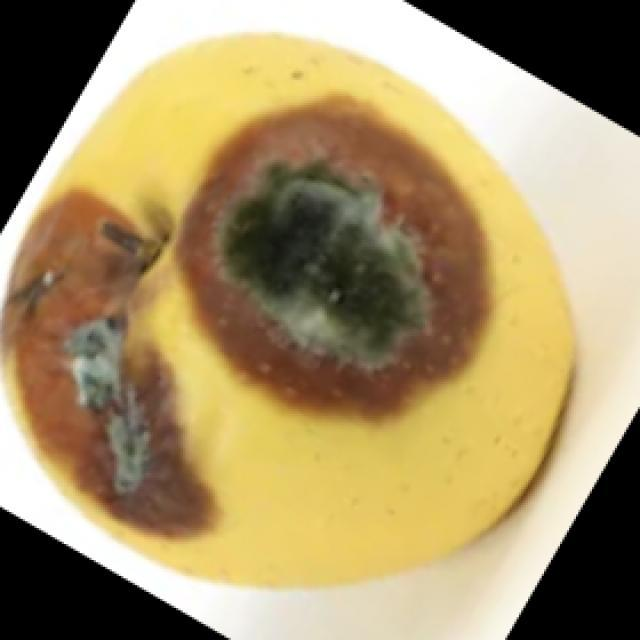Rotten: (43, 43, 592, 612)
